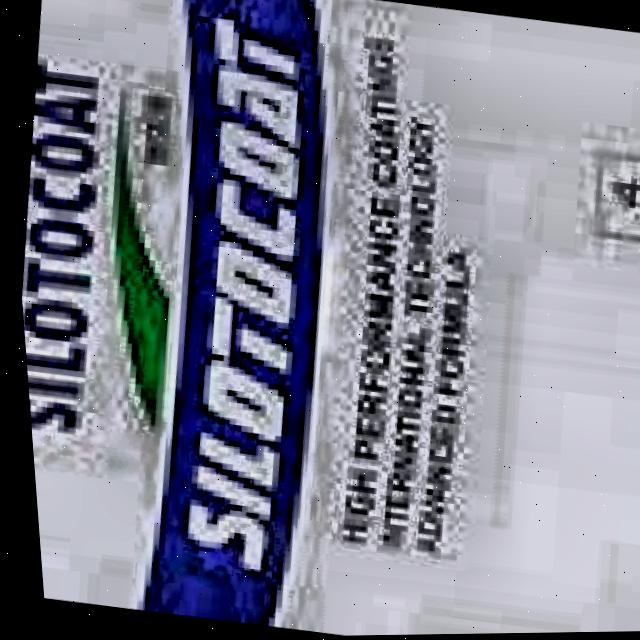metal: (17, 0, 640, 637)
